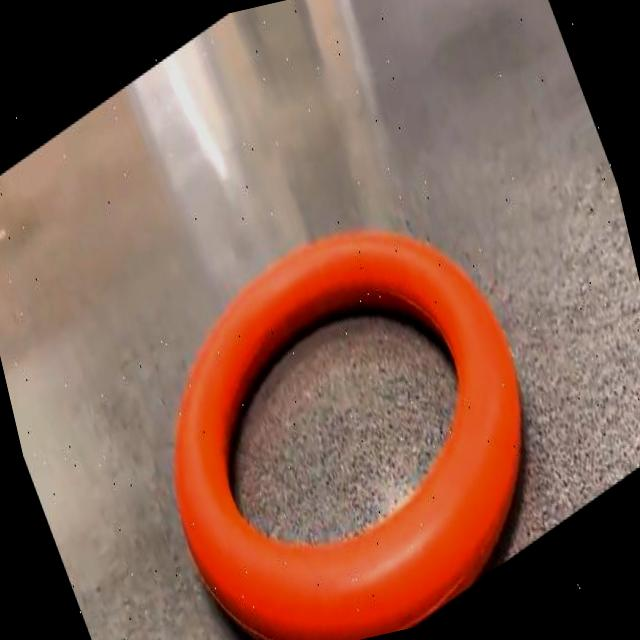note: (174, 231, 521, 640)
